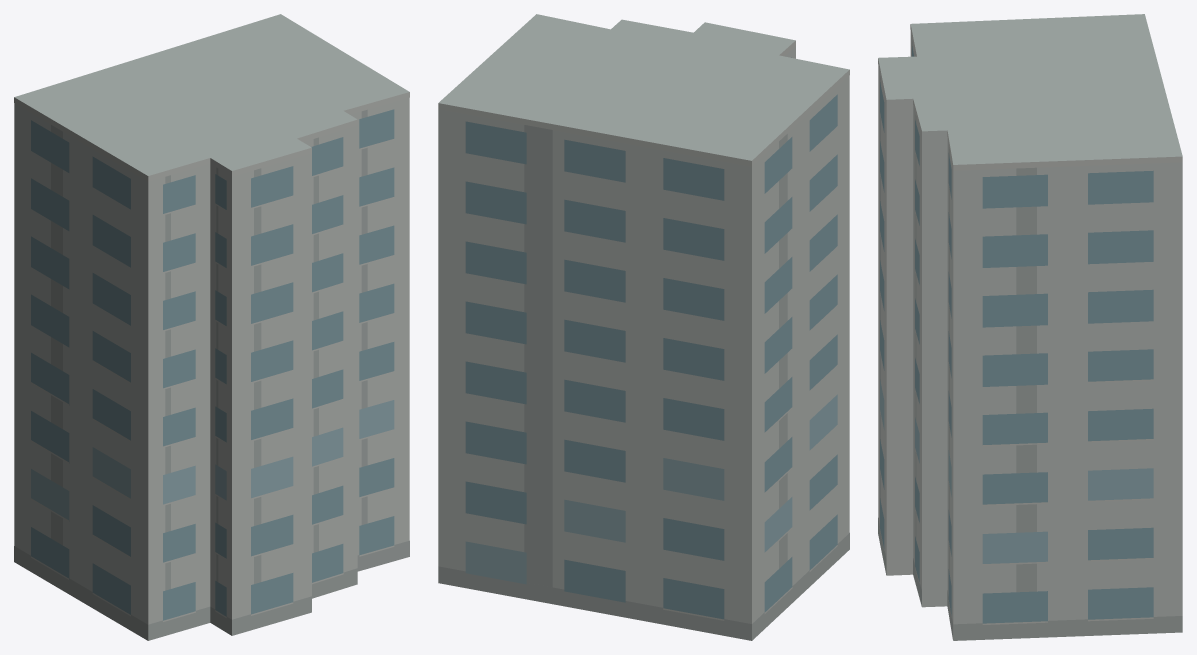
File: survey-upis-32913070.glb
3 views of the same model, side by side, from view 1: azimuth 30°, elevation 25°; view 2: azimuth 150°, elevation 25°; view 3: azimuth 270°, elevation 25° (orthographic). The views are drawn at different scales.
Parts seen in each view (by area): view 1: survey-upis-32913070.tmp; view 2: survey-upis-32913070.tmp; view 3: survey-upis-32913070.tmp.
Part boxes in pixels (x1=…): survey-upis-32913070.tmp: x1=14, y1=14, x2=409, y2=640; survey-upis-32913070.tmp: x1=438, y1=14, x2=849, y2=640; survey-upis-32913070.tmp: x1=878, y1=14, x2=1182, y2=640.
Size of the model in its own units: 13.51 by 19.85 by 11.53.
